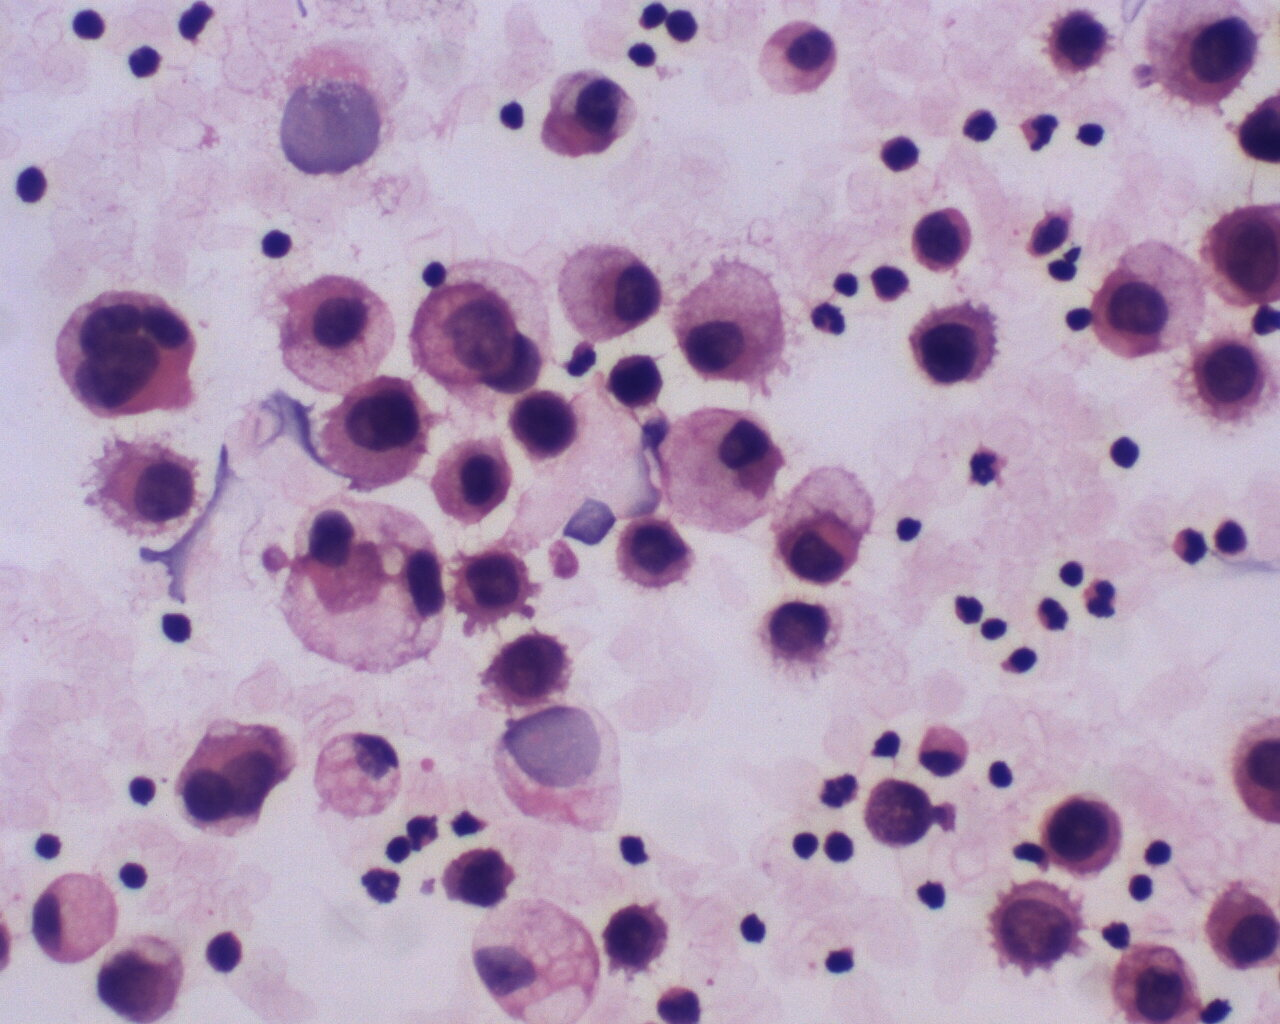ab: (313, 371, 434, 491), (985, 877, 1089, 975), (1162, 11, 1264, 109), (104, 439, 205, 534), (908, 296, 1002, 394), (442, 537, 538, 630), (1186, 332, 1277, 430), (94, 931, 190, 1023), (1034, 783, 1128, 876), (1106, 942, 1208, 1024), (1201, 875, 1280, 978), (488, 626, 580, 715), (609, 511, 697, 594), (779, 510, 867, 589), (600, 897, 680, 978), (1037, 6, 1117, 85), (437, 843, 518, 910), (509, 388, 579, 464), (912, 204, 983, 272)
histo: (657, 399, 778, 548), (554, 238, 666, 348), (308, 730, 406, 828), (28, 869, 119, 965)
lymph: (252, 218, 304, 270), (9, 160, 55, 212), (1107, 425, 1151, 470), (494, 89, 530, 139), (126, 41, 165, 86), (1139, 827, 1174, 868), (986, 753, 1021, 795), (160, 607, 196, 646), (738, 909, 771, 948), (127, 773, 160, 807), (789, 829, 820, 860)
meso: (274, 274, 395, 387), (749, 17, 843, 103), (429, 434, 517, 526)
neutro: (356, 861, 405, 914), (1015, 107, 1065, 158), (960, 442, 1009, 493), (806, 296, 857, 343), (1080, 578, 1125, 620), (1167, 522, 1208, 566), (950, 587, 985, 629)
